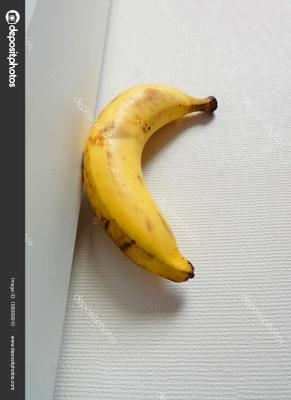banana: (0, 0, 291, 400)
